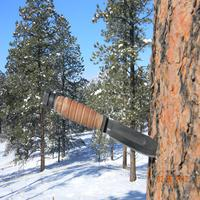knife: (36, 84, 171, 168)
